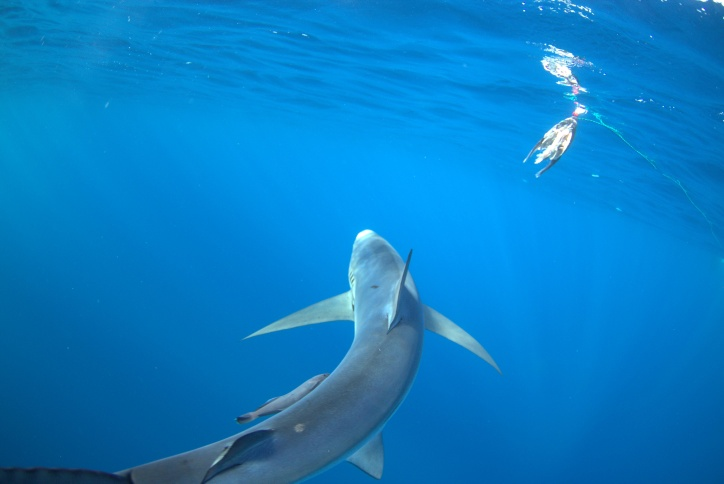Azul: (4, 204, 488, 484)
